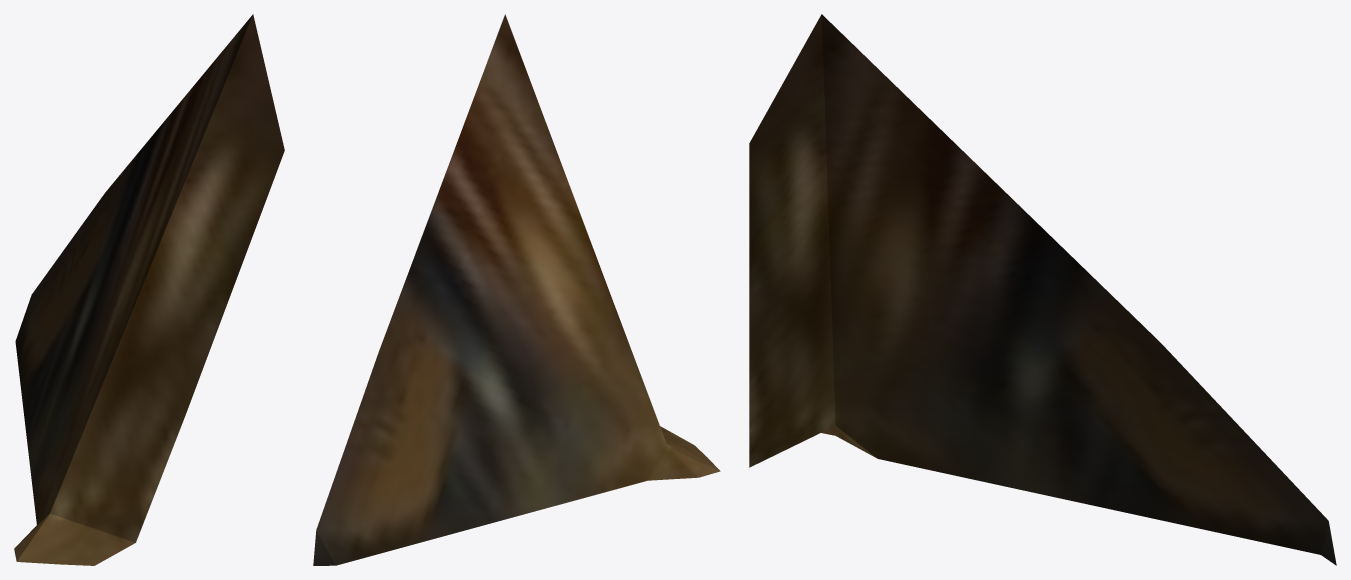
3 views of the same model, side by side, from view 1: azimuth 30°, elevation 25°; view 2: azimuth 150°, elevation 25°; view 3: azimuth 270°, elevation 25° (orthographic). The views are drawn at different scales.
Bounding box in the file's own units: 0.3957 × 0.7458 × 0.7194.
Materials: 1 (1 with a texture image).
